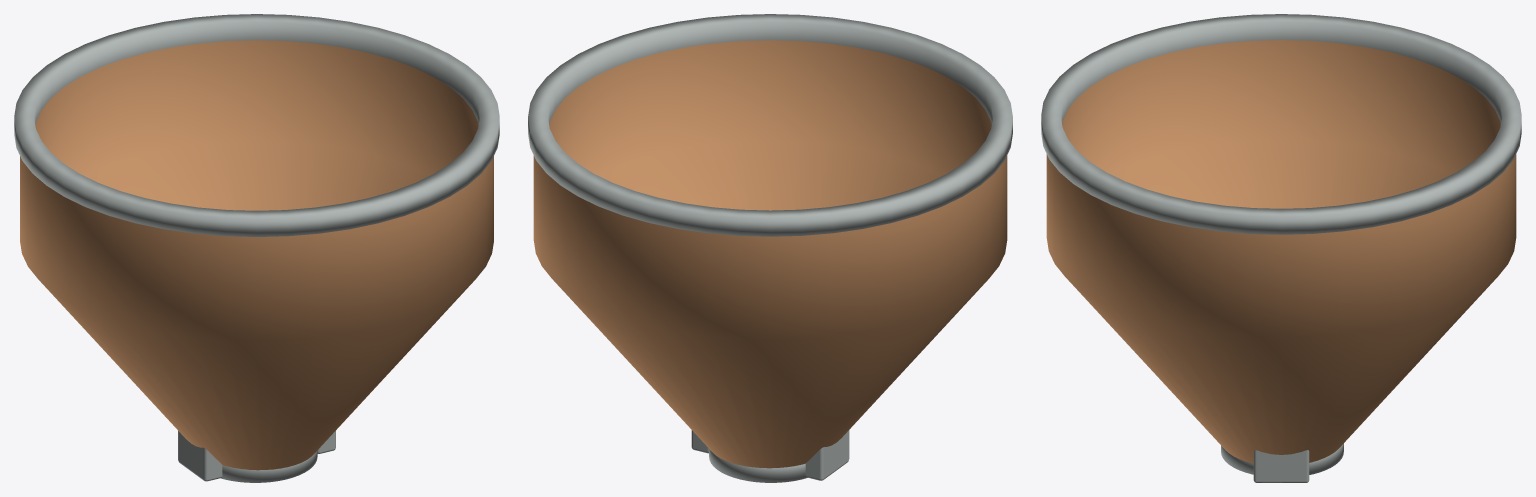
File: coffee-roastery-and-cupping-room-coffee-roastery-and-c-8fe14e08__32187.glb
The picture shows the model from 3 angles, left to right: view 1: azimuth 30°, elevation 25°; view 2: azimuth 150°, elevation 25°; view 3: azimuth 270°, elevation 25°; orthographic projection.
Visible parts, largest first — view 1: coffee-roastery-and-cupping-room-roaster-feed-hopper; view 2: coffee-roastery-and-cupping-room-roaster-feed-hopper; view 3: coffee-roastery-and-cupping-room-roaster-feed-hopper.
Boxes of the visible parts, <box> form: coffee-roastery-and-cupping-room-roaster-feed-hopper: <box>14,14,499,482</box>; coffee-roastery-and-cupping-room-roaster-feed-hopper: <box>528,14,1012,482</box>; coffee-roastery-and-cupping-room-roaster-feed-hopper: <box>1041,14,1521,482</box>.
Size of the model in its own units: 0.86 by 0.665 by 0.86.
